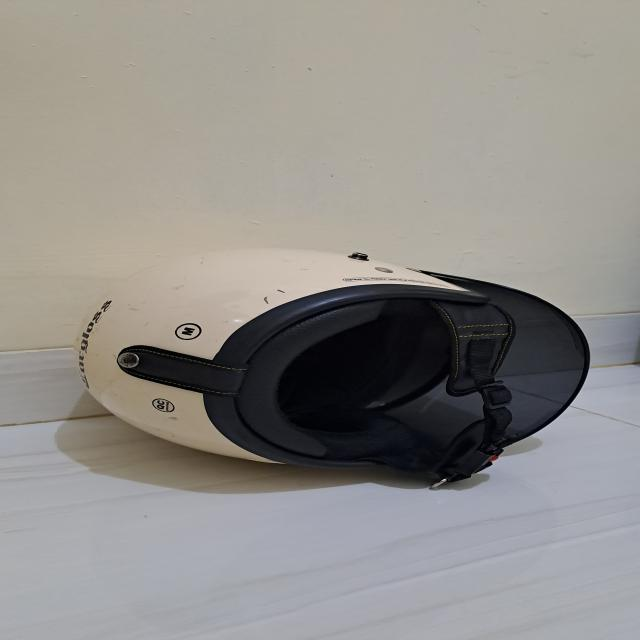Helm: (52, 235, 602, 496)
